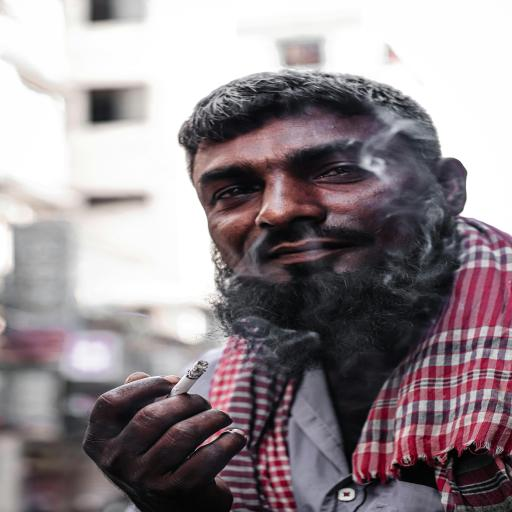terdeteksi pegang rokok: (102, 338, 244, 487)
